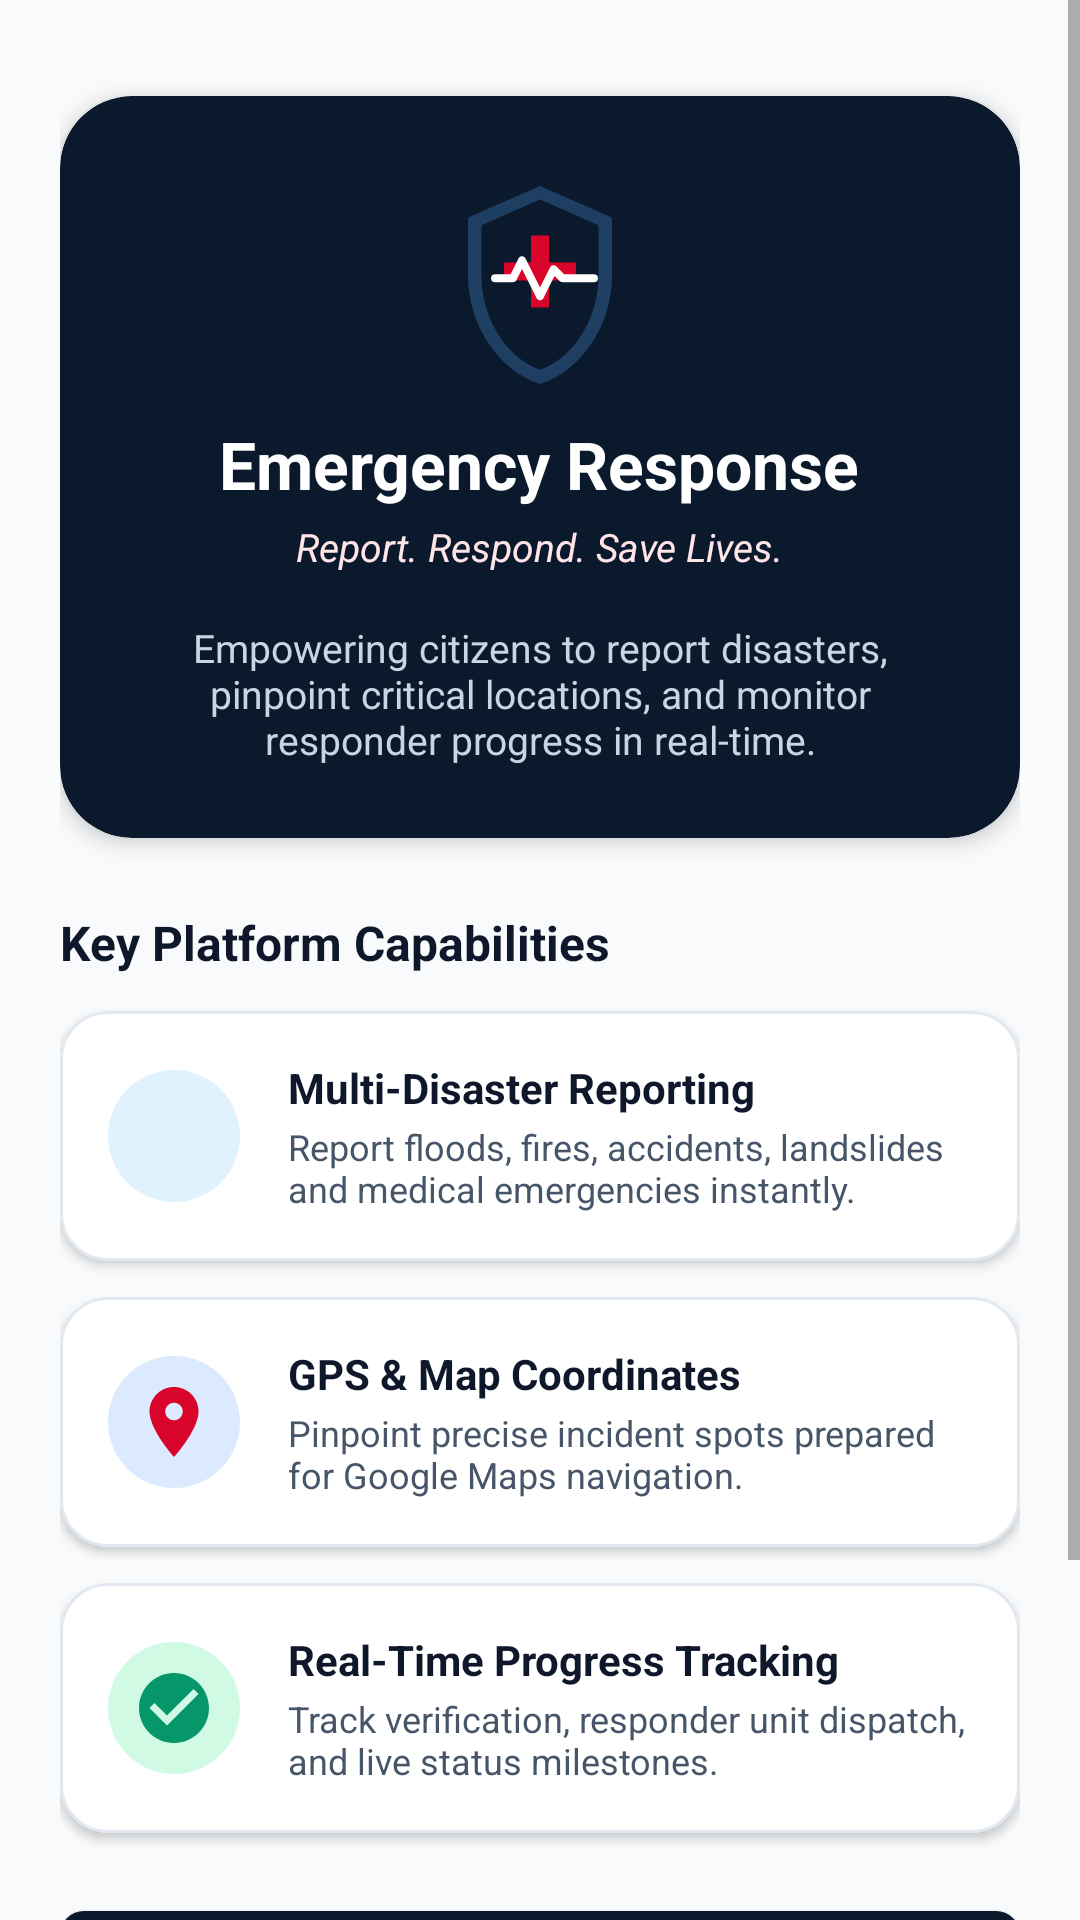

Where icons sit on this 1080×1920 app screen, as Rect(x1, y1, x2, y2):
check circle: Rect(108, 1642, 240, 1774)
location pin: Rect(108, 1356, 240, 1488)
